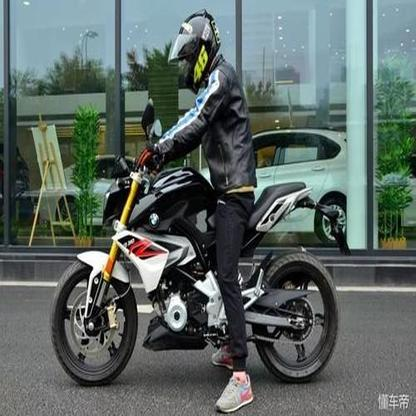target: (40, 8, 346, 387)
